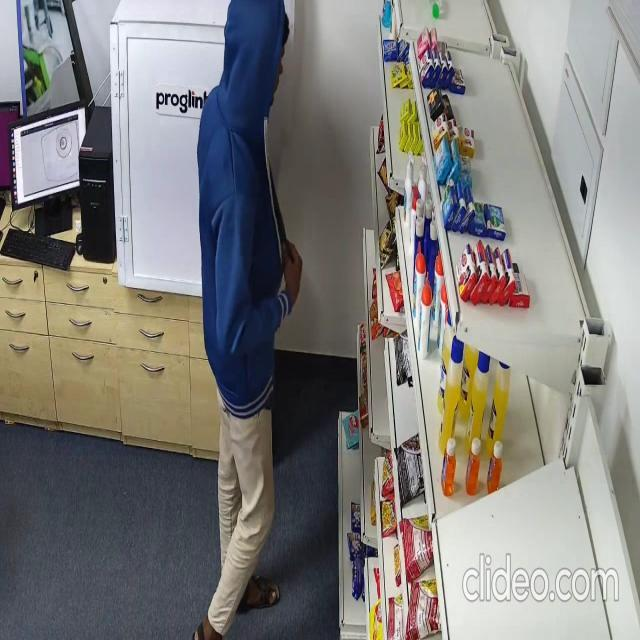Shoplifting: (190, 0, 307, 640)
